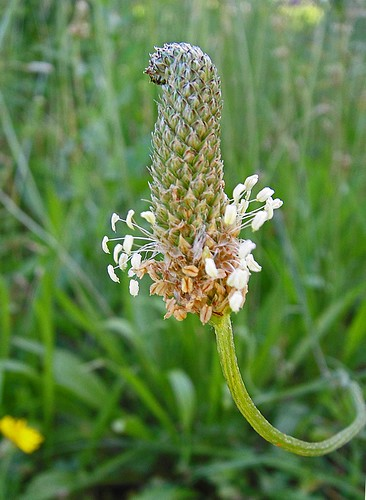buckhorn plantain: (109, 29, 297, 426)
